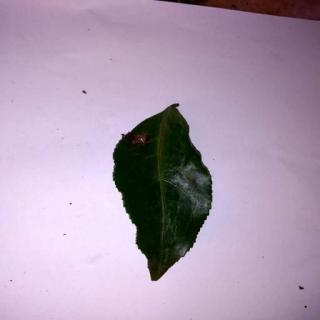Anthracnose: (113, 104, 216, 284)
